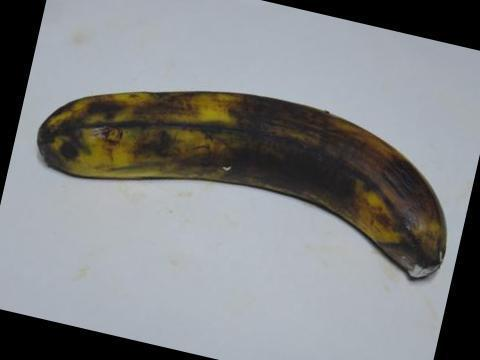overripe: (17, 71, 475, 303)
